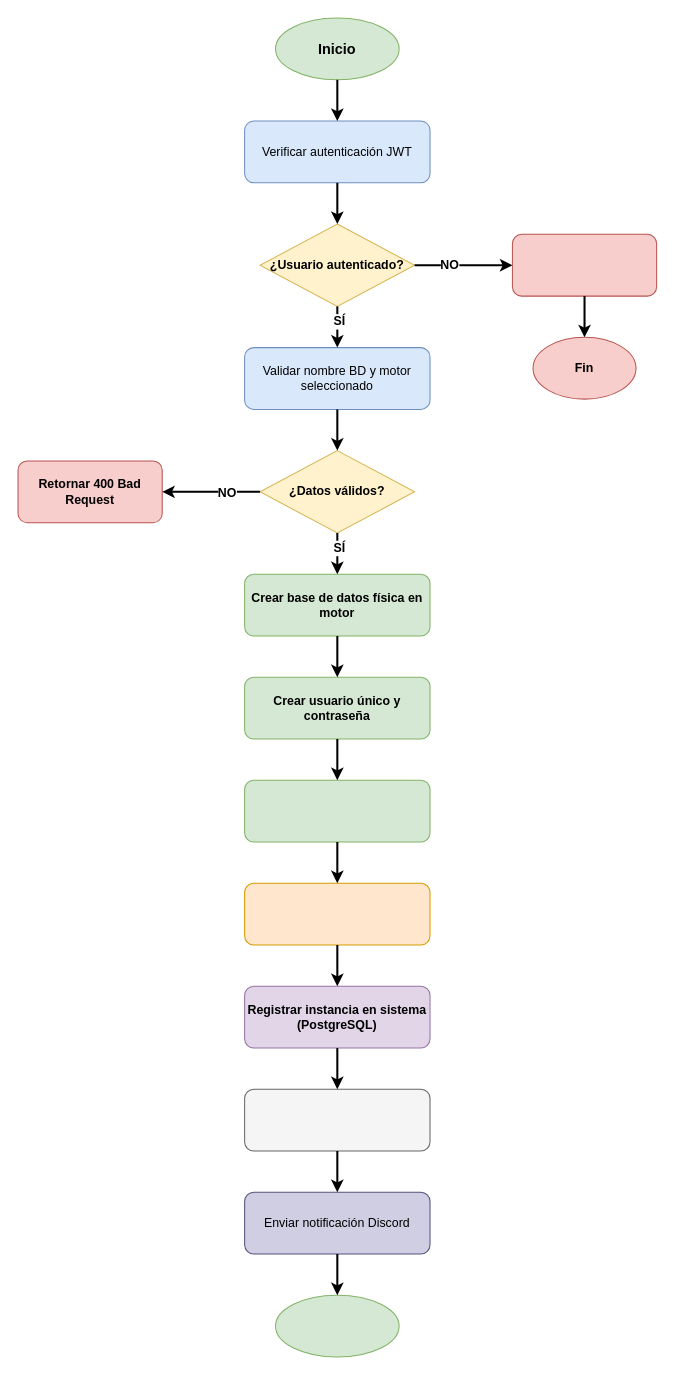
Some shapes in this 675 by 1375 pixel diagram are drawn without their labels. Each missing label, with the centre of its shape:
"Asignar permisos al usuario" belongs at [337,810].
"Encriptar contraseña (AES-256)" belongs at [337,913].
"Fin - BD Creada" belongs at [336,1325].
"Registrar en log de auditoría" belongs at [337,1119].
"Retornar 401 Unauthorized" belongs at [584,264].
